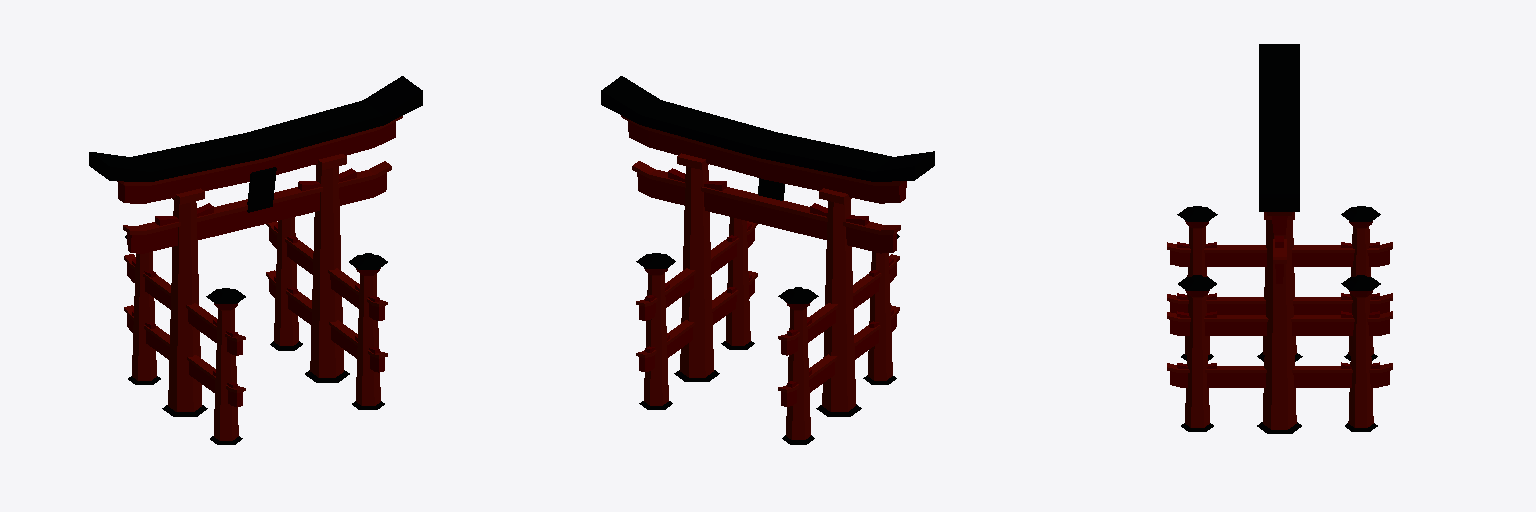
File: TORII.obj
3 views of the same model, side by side, from view 1: azimuth 30°, elevation 25°; view 2: azimuth 150°, elevation 25°; view 3: azimuth 270°, elevation 25° (orthographic).
Parts seen in each view (by area): view 1: Cylinder.002; view 2: Cylinder.002; view 3: Cylinder.002.
Boxes of the visible parts, x1=… form: Cylinder.002: x1=89, y1=76, x2=422, y2=444; Cylinder.002: x1=601, y1=76, x2=934, y2=444; Cylinder.002: x1=1167, y1=44, x2=1392, y2=433.
Size of the model in its own units: 15.68 by 12.94 by 9.78.